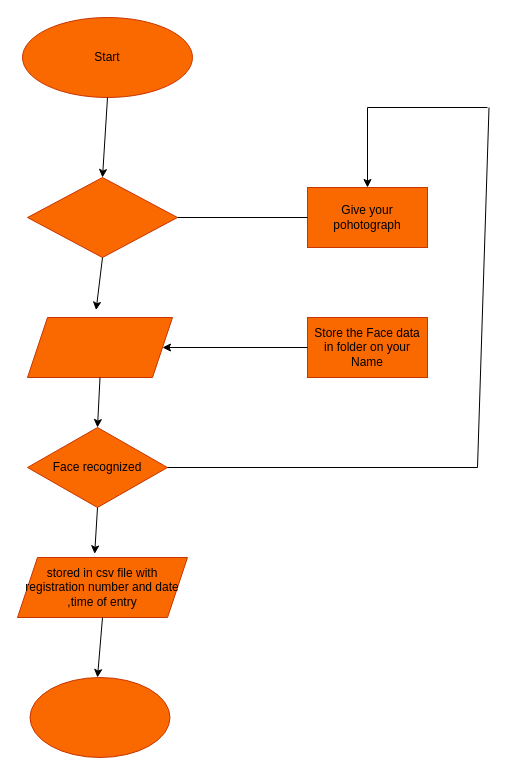
Image size: 508x775. Some labels were removed from this diagram. Here are the shapes that lost their labels. From the top down, the box of each, then its label:
(26, 176, 178, 258): New User
(26, 316, 172, 378): Recognize the Face
(29, 676, 170, 758): End
